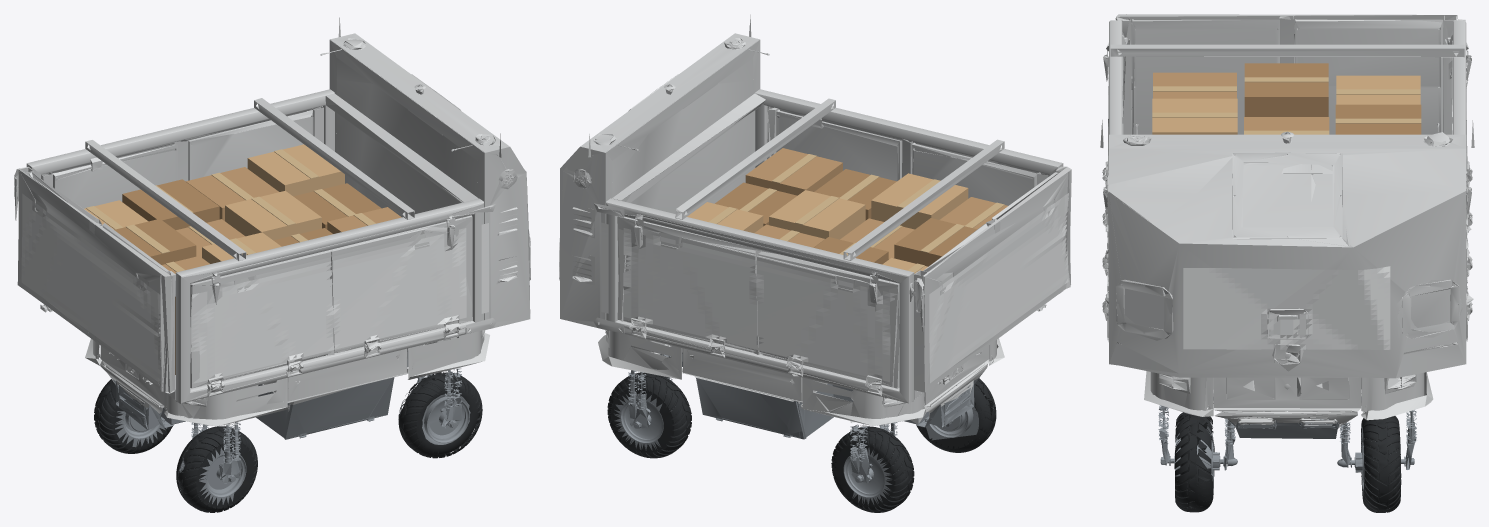
File: ranger-navigation.glb
3 views of the same model, side by side, from view 1: azimuth 30°, elevation 25°; view 2: azimuth 150°, elevation 25°; view 3: azimuth 270°, elevation 25° (orthographic). The views are drawn at different scales.
Parts seen in each view (by area): view 1: body, wrap_right, wrap_rear, wheel_fr, wheel_rr, cargo_box_8, cargo_box_12, wheel_rl, cargo_box_6, cargo_box_2, cargo_box_9, cargo_box_11 (+4 smaller); view 2: body, wrap_left, wrap_rear, wheel_fl, wheel_rl, cargo_box_8, wheel_rr, cargo_box_10, cargo_box_4, cargo_box_2, cargo_box_7, cargo_box_11 (+5 smaller); view 3: body, wrap_front, cargo_box_2, wheel_fr, wheel_fl, cargo_box_4, cargo_box_6, cargo_box_3, cargo_box_1, cargo_box_5, cargo_box_tape_6, cargo_box_tape_4 (+3 smaller).
Part boxes in pixels (bbox=[...]): body: bbox=[14, 17, 530, 483]; wrap_right: bbox=[191, 223, 488, 383]; wrap_rear: bbox=[21, 193, 161, 383]; wheel_fr: bbox=[398, 372, 482, 458]; wheel_rr: bbox=[176, 426, 257, 512]; cargo_box_8: bbox=[225, 190, 321, 240]; cargo_box_12: bbox=[247, 144, 344, 196]; wheel_rl: bbox=[94, 379, 172, 453]; cargo_box_6: bbox=[122, 179, 219, 229]; cargo_box_2: bbox=[114, 218, 196, 264]; cargo_box_9: bbox=[186, 167, 278, 220]; cargo_box_11: bbox=[293, 183, 381, 229]; body: bbox=[559, 14, 1071, 483]; wrap_left: bbox=[601, 222, 896, 381]; wrap_rear: bbox=[929, 193, 1068, 383]; wheel_fl: bbox=[607, 372, 691, 458]; wheel_rl: bbox=[831, 426, 914, 512]; cargo_box_8: bbox=[769, 190, 865, 239]; wheel_rr: bbox=[917, 378, 996, 452]; cargo_box_10: bbox=[745, 148, 842, 195]; cargo_box_4: bbox=[871, 173, 968, 229]; cargo_box_2: bbox=[894, 218, 976, 266]; cargo_box_7: bbox=[814, 169, 896, 220]; cargo_box_11: bbox=[715, 182, 796, 226]; body: bbox=[1100, 14, 1474, 470]; wrap_front: bbox=[1183, 266, 1390, 349]; cargo_box_2: bbox=[1244, 63, 1328, 116]; wheel_fr: bbox=[1160, 412, 1237, 512]; wheel_fl: bbox=[1337, 416, 1414, 512]; cargo_box_4: bbox=[1152, 98, 1237, 134]; cargo_box_6: bbox=[1335, 104, 1421, 134]; cargo_box_3: bbox=[1336, 75, 1420, 104]; cargo_box_1: bbox=[1153, 72, 1236, 98]; cargo_box_5: bbox=[1244, 117, 1329, 130]; cargo_box_tape_6: bbox=[1335, 118, 1421, 123]; cargo_box_tape_4: bbox=[1152, 112, 1237, 117].
Bounding box in the file's own units: 1.56 × 1.33 × 1.12.
